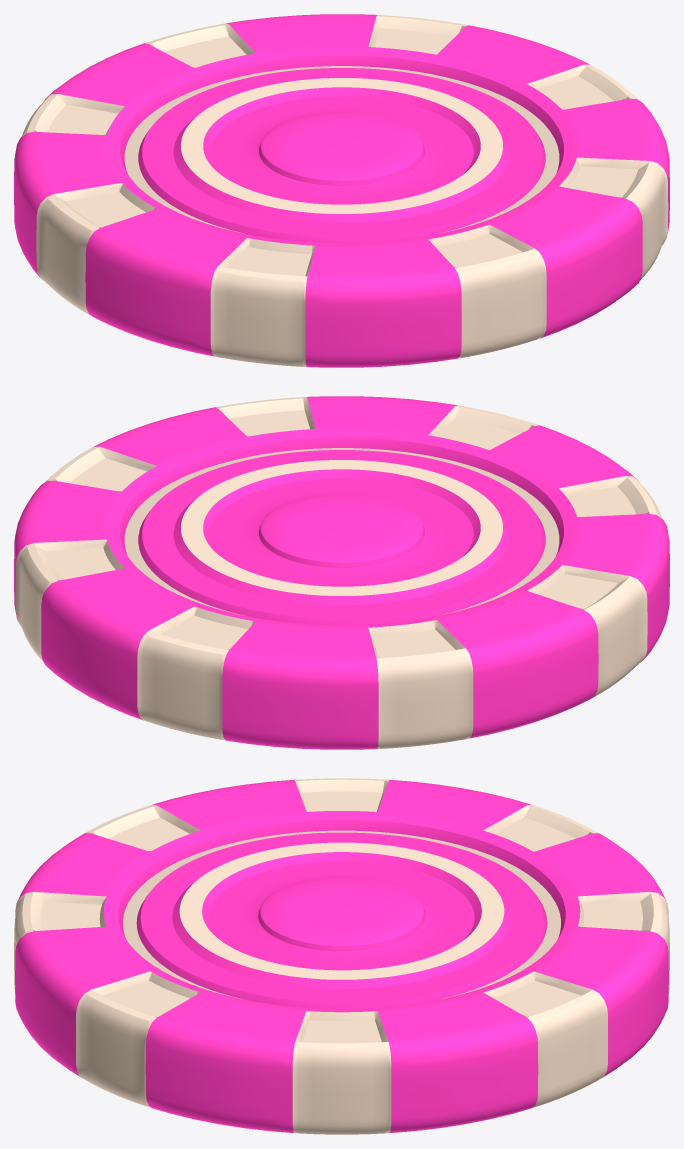
The model's file is PokerChip_Pink.glb.
3 views of the same model, one above another, from view 1: azimuth 30°, elevation 25°; view 2: azimuth 150°, elevation 25°; view 3: azimuth 270°, elevation 25° (orthographic).
Visible parts, largest first — view 1: PokerChip_Pink; view 2: PokerChip_Pink; view 3: PokerChip_Pink.
Part boxes in pixels (<box>): PokerChip_Pink: <box>14,14,669,367</box>; PokerChip_Pink: <box>14,396,669,749</box>; PokerChip_Pink: <box>14,778,669,1134</box>.
Size of the model in its own units: 1.98 by 0.324 by 1.98.
